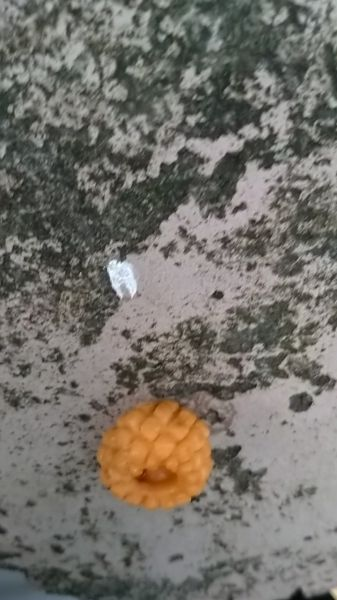eggs: (92, 396, 217, 505)
